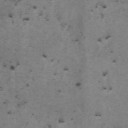oxide scale of temperature system: (8, 0, 80, 42), (42, 53, 82, 93), (0, 62, 30, 115), (96, 34, 116, 91), (46, 118, 66, 128), (94, 2, 106, 18), (94, 112, 102, 117)
